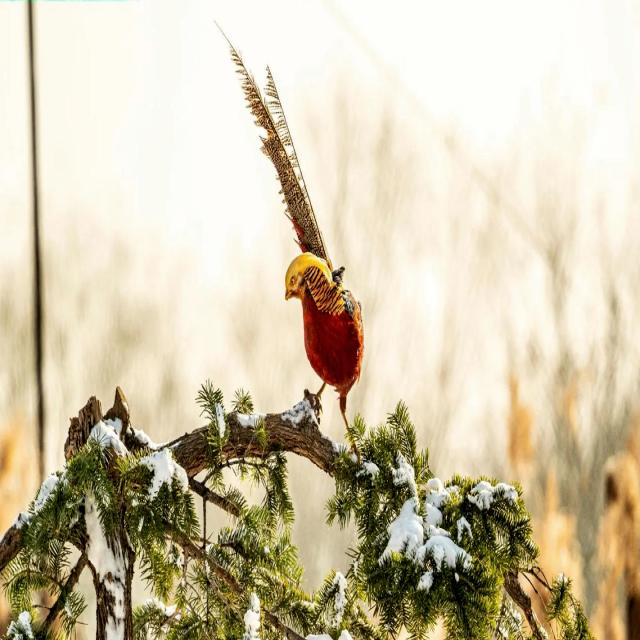Chrysolophus pictus feather: (215, 19, 332, 271)
